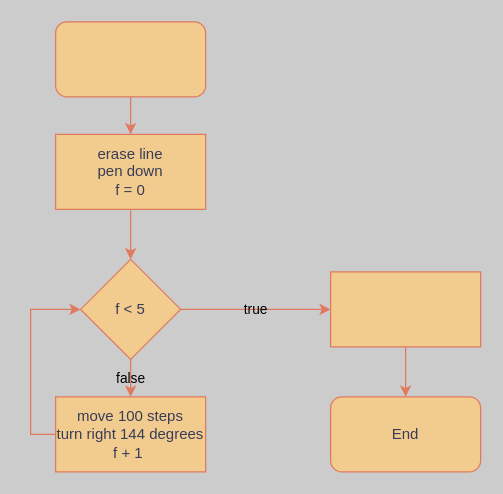
This 503x494 diagram has some shape labels left out. The shapes that lost their labels are listed below. From the top down, each one's centre as x and y in pixels, then its label:
At (130,59): "Start".
At (405,309): "pen up".
